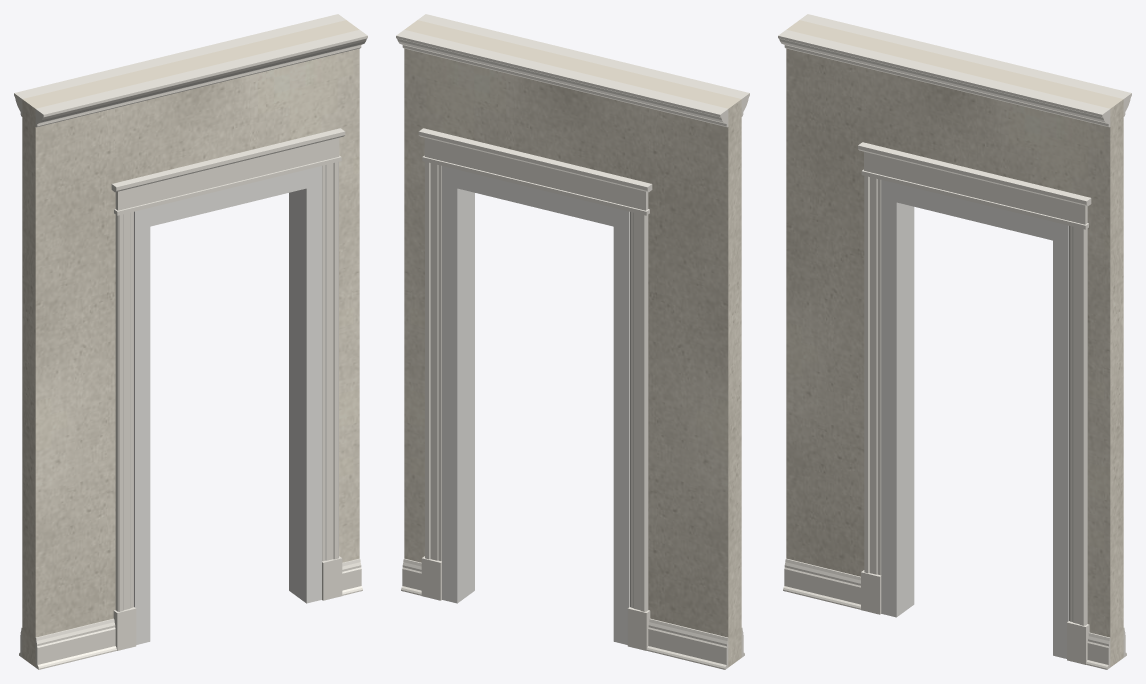
Rendered from interior_wall_end_doorway.glb.
The picture shows the model from 3 angles, left to right: view 1: azimuth 30°, elevation 25°; view 2: azimuth 150°, elevation 25°; view 3: azimuth 330°, elevation 25°; orthographic projection.
Parts seen in each view (by area): view 1: interior_wall_end_doorway_plaster, molduras, interior_wall_end_doorway_frame; view 2: interior_wall_end_doorway_plaster, molduras, interior_wall_end_doorway_frame; view 3: interior_wall_end_doorway_plaster, molduras, interior_wall_end_doorway_frame.
Boxes of the visible parts, bbox=[...] form: interior_wall_end_doorway_plaster: bbox=[22, 20, 359, 667]; molduras: bbox=[14, 14, 367, 669]; interior_wall_end_doorway_frame: bbox=[134, 166, 321, 644]; interior_wall_end_doorway_plaster: bbox=[404, 20, 741, 667]; molduras: bbox=[396, 14, 749, 669]; interior_wall_end_doorway_frame: bbox=[442, 166, 629, 644]; interior_wall_end_doorway_plaster: bbox=[786, 20, 1123, 667]; molduras: bbox=[778, 14, 1131, 669]; interior_wall_end_doorway_frame: bbox=[881, 180, 1068, 658].
Bounding box in the file's own units: 1.7 × 2.8 × 0.27.
3 materials, 1 textured.
